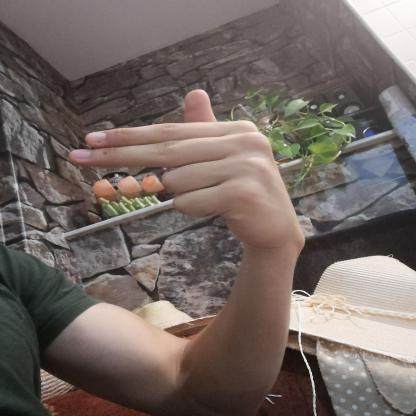GHAYN: (49, 77, 328, 266)
